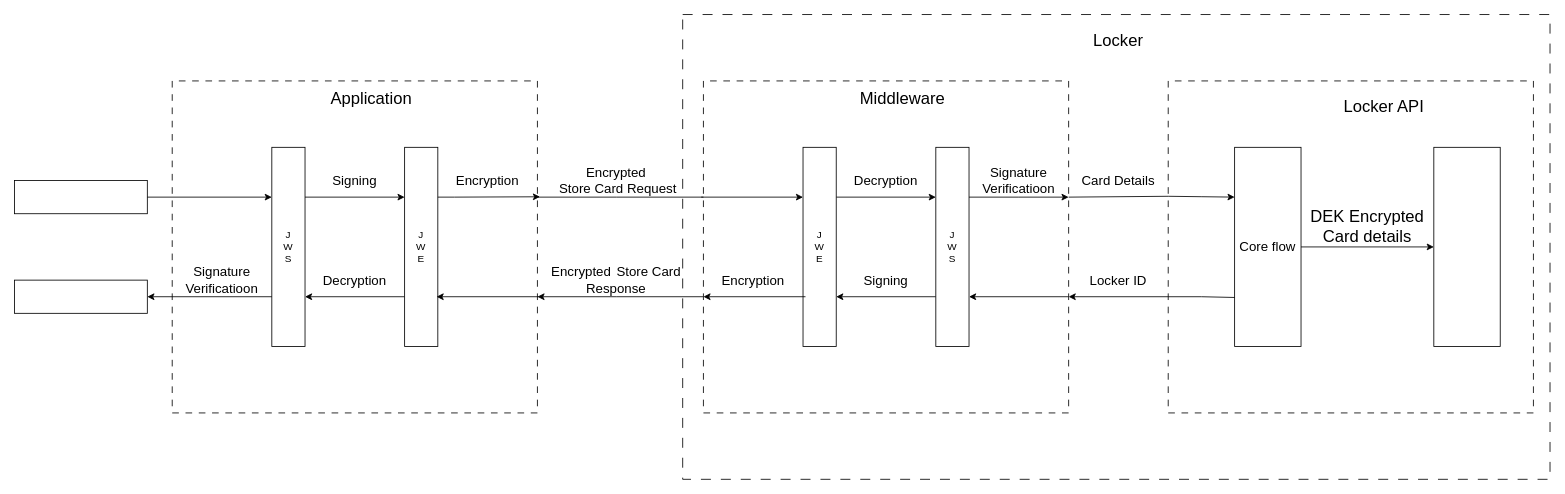
Image size: 1565x494. Some labels were removed from this diagram. The shapes that lost their labels are listed below. From the top down, each one's centre as x and y in pixels, then its label:
the point at 80,197: Store Card Request
the point at 1466,246: DB
the point at 80,296: Store Card Response
